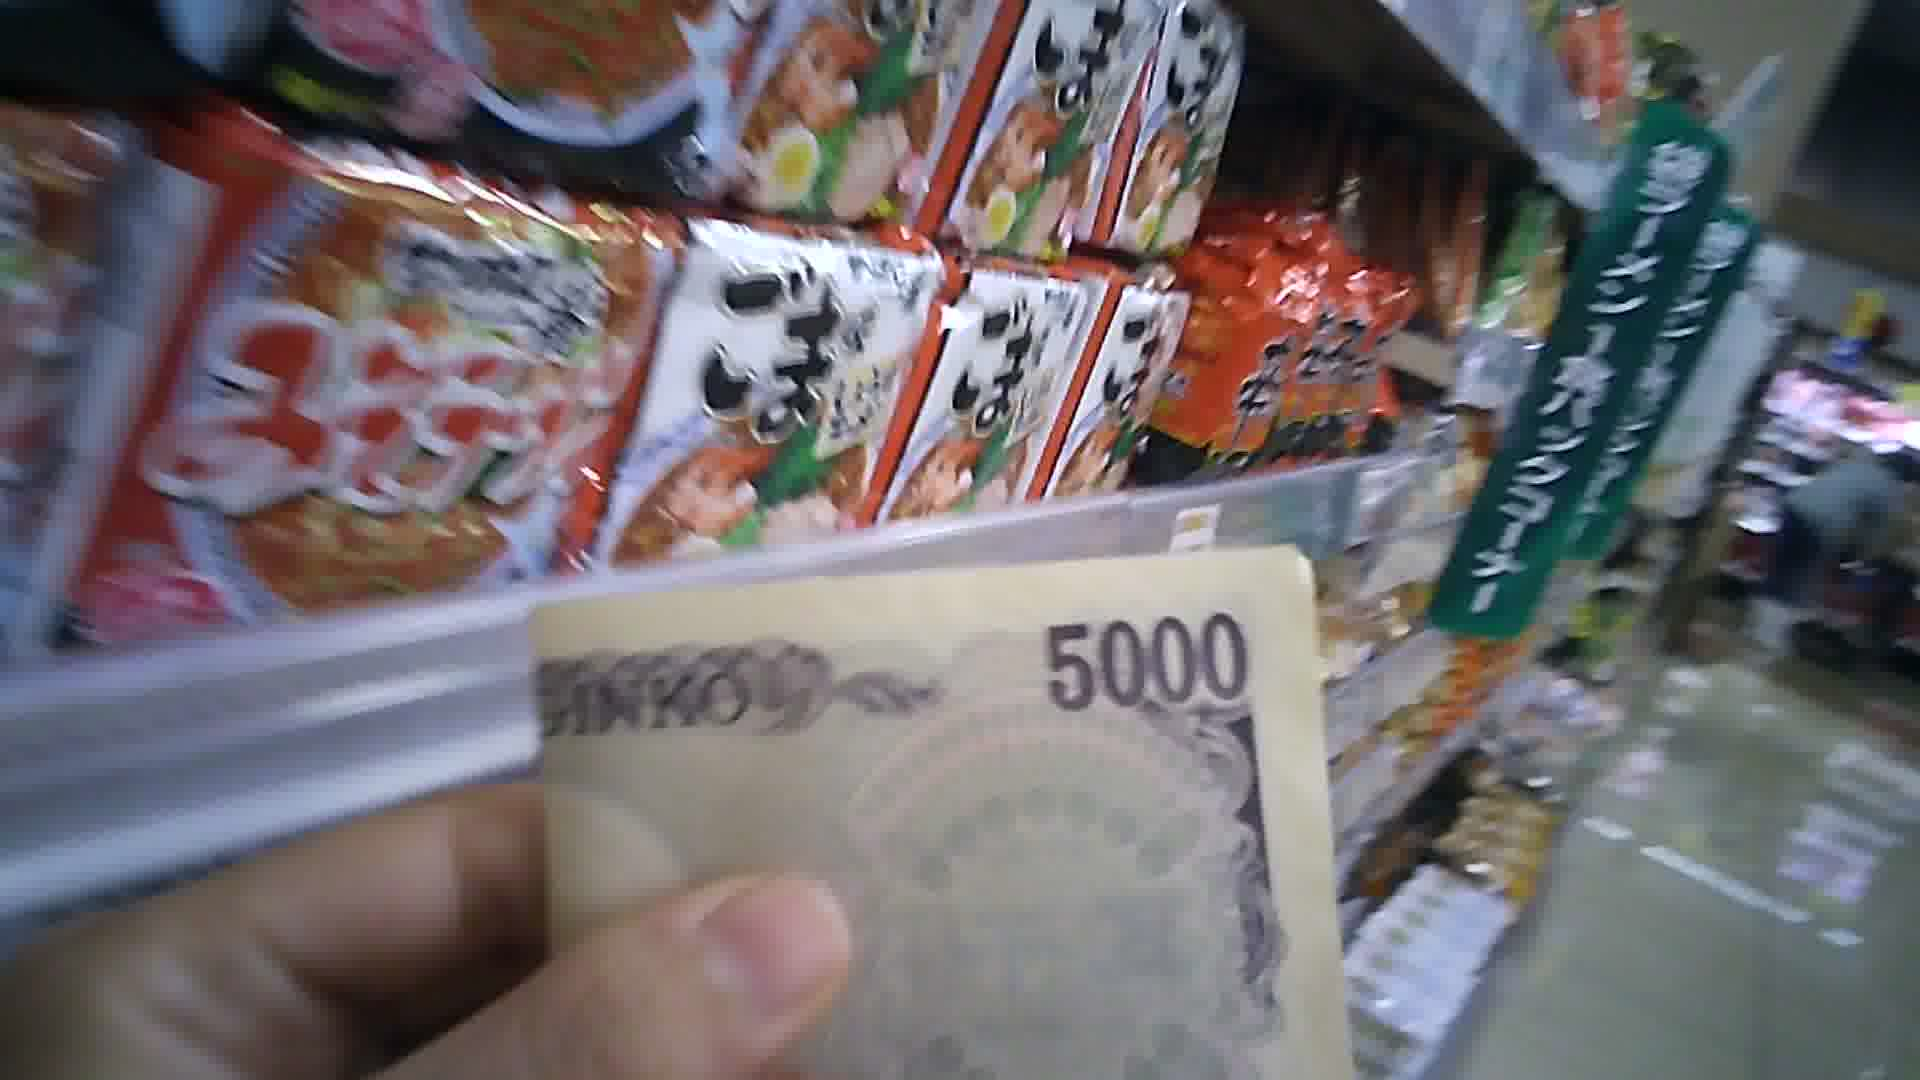5,000 Yen: (506, 531, 1379, 1077)
